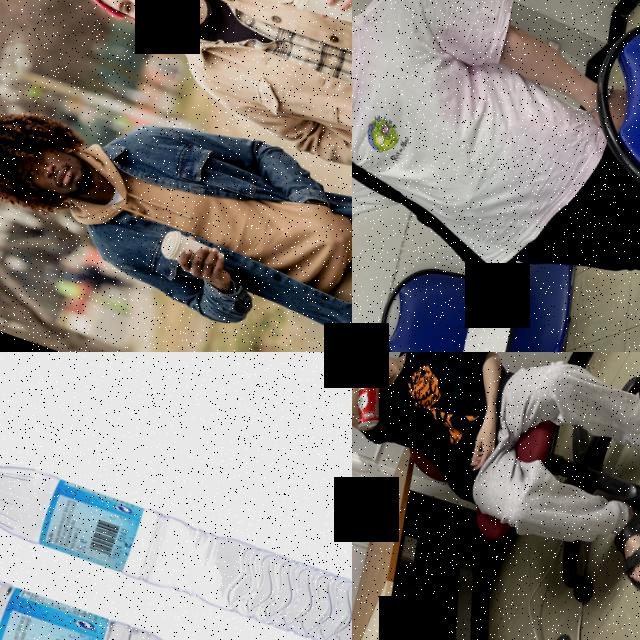bottle: (0, 425, 352, 640), (0, 537, 352, 640)
can: (352, 352, 398, 433)
cup: (156, 224, 230, 276), (289, 0, 352, 27)
